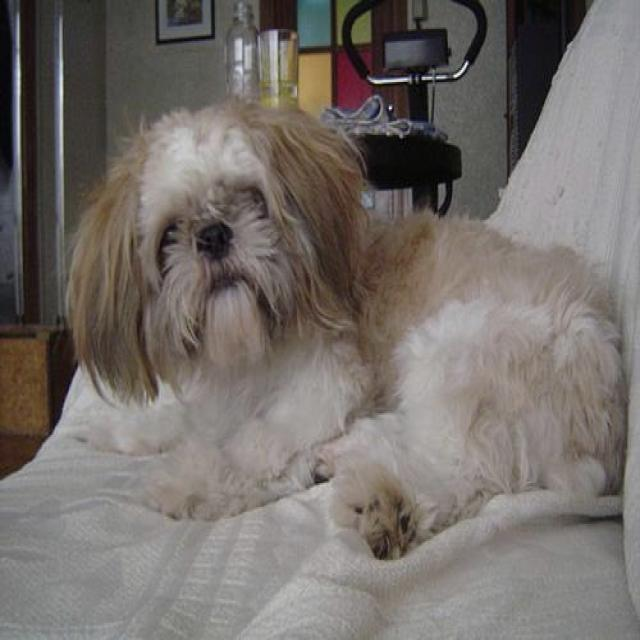shih_tzu: (62, 99, 628, 560)
